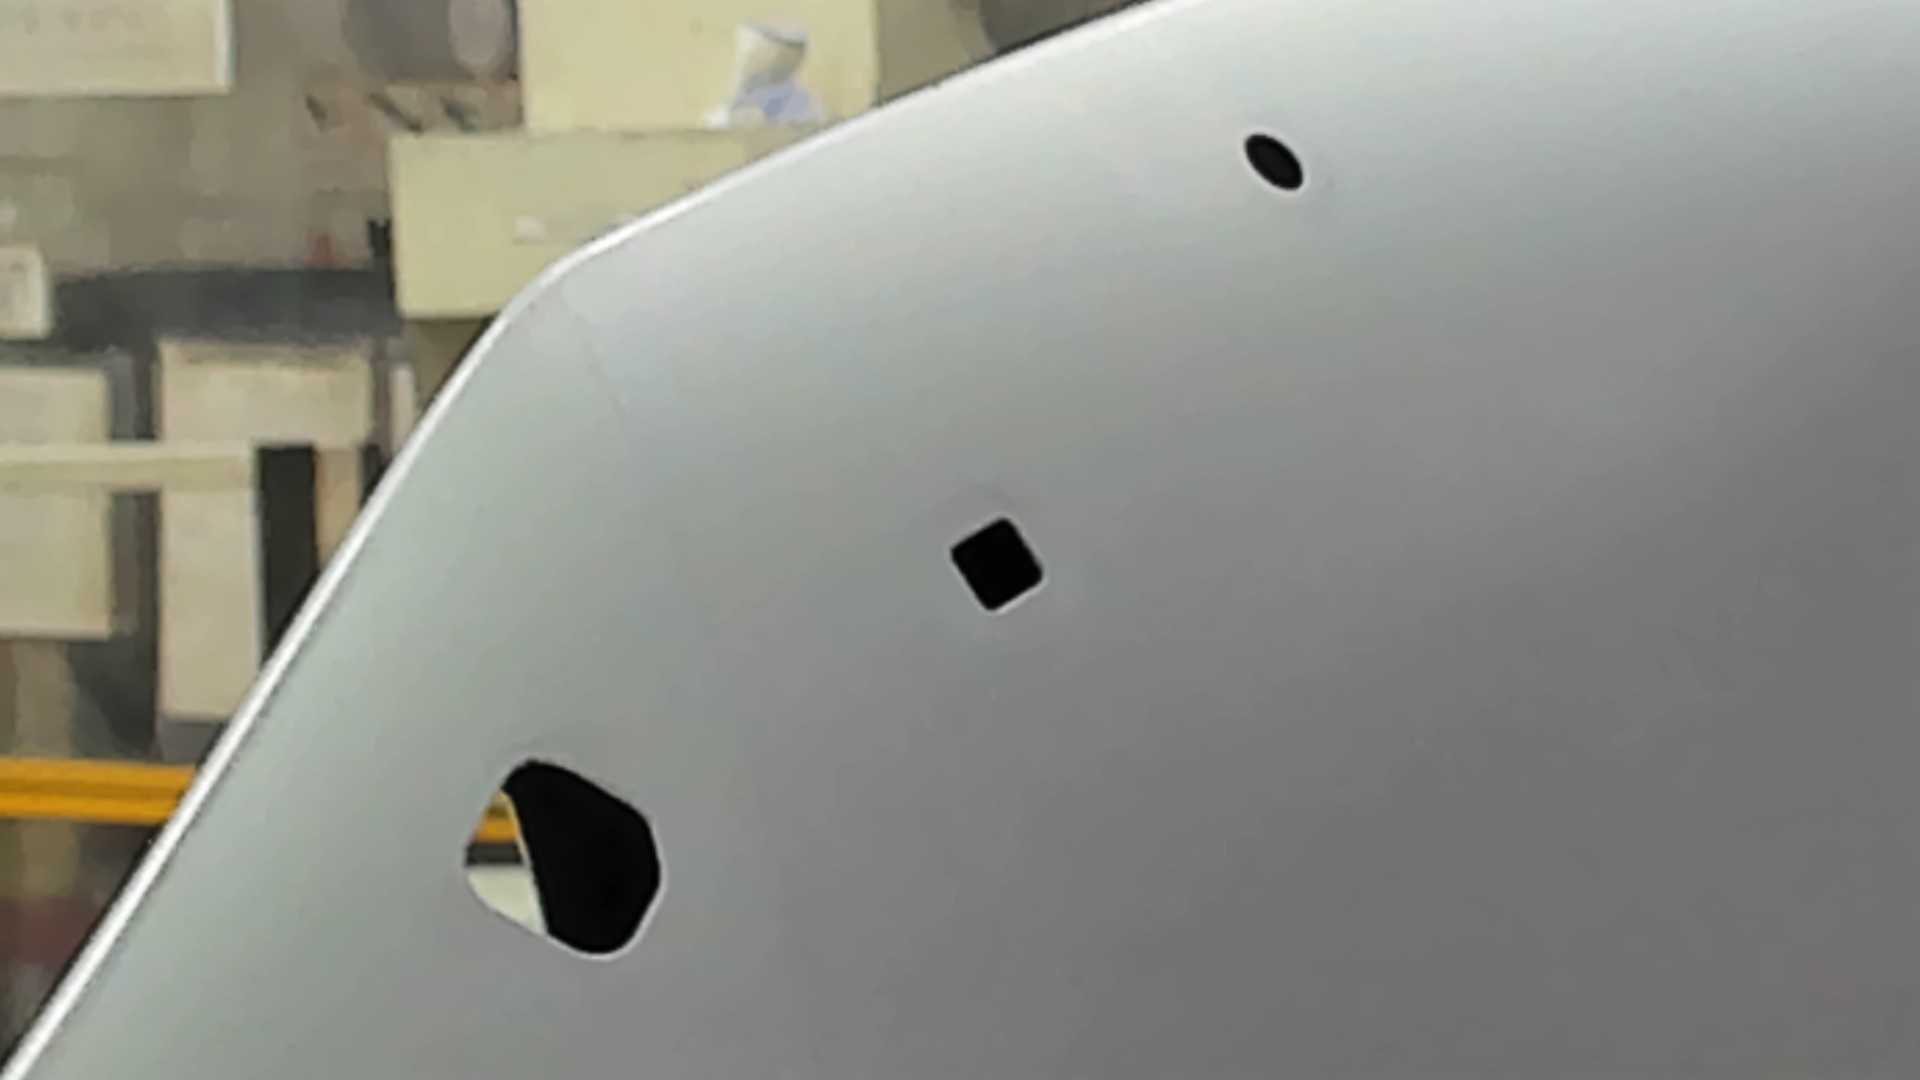chico: (1238, 128, 1311, 196)
grande: (460, 753, 671, 961)
mediano: (942, 512, 1054, 617)
